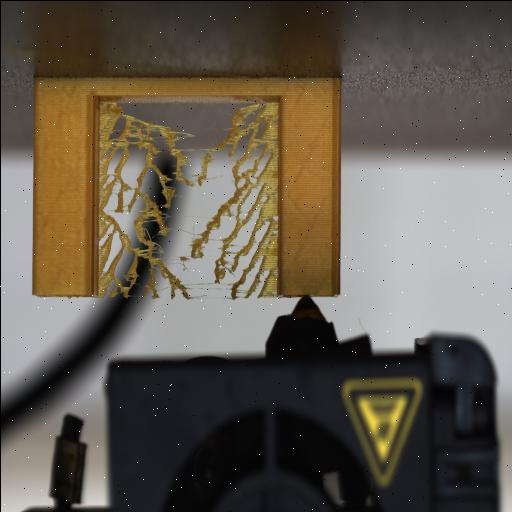stringing: (96, 102, 278, 298)
